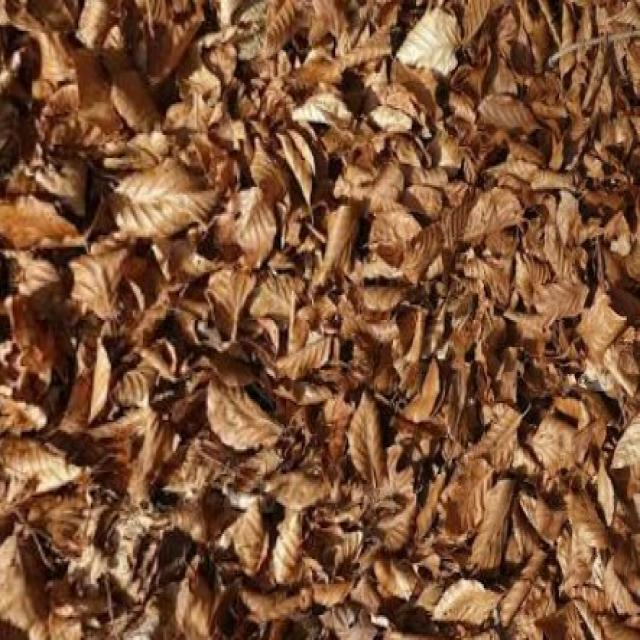Organik: (6, 7, 634, 632)
